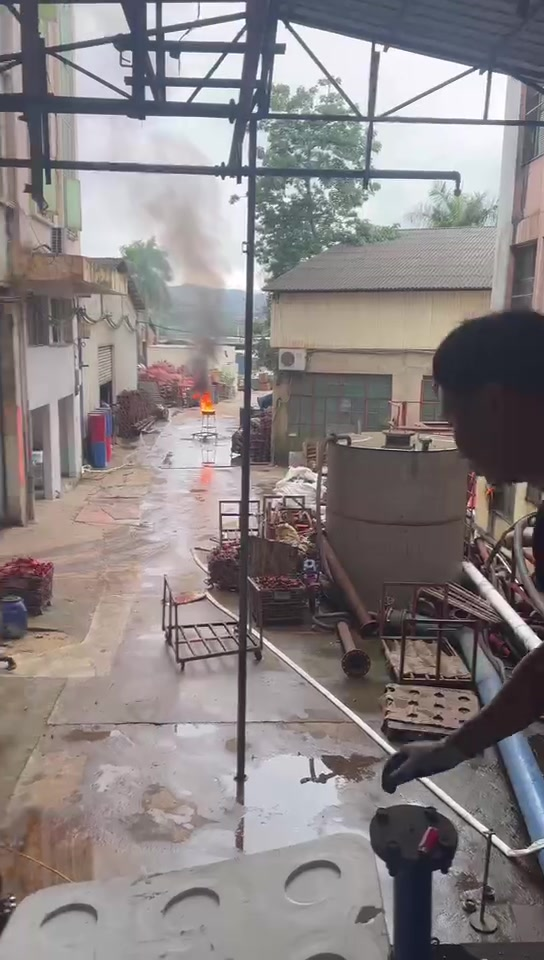fire: (200, 394, 214, 411)
